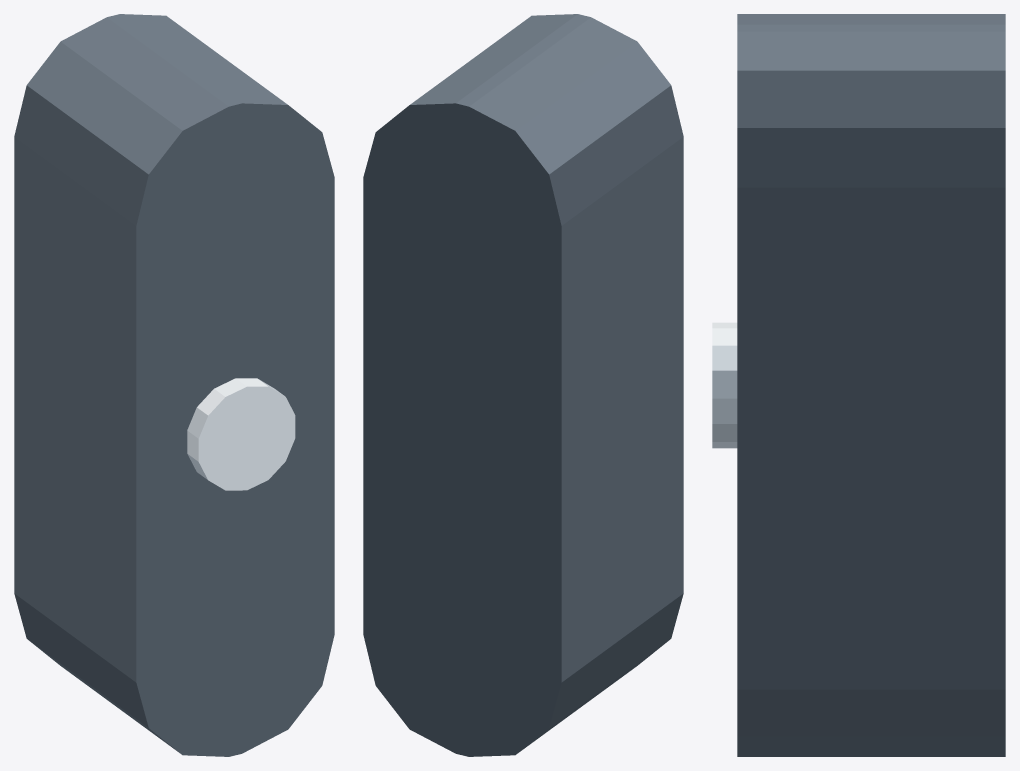
Rendered from Edge_Shutter.gltf.
3 renders of one model, left to right at view 1: azimuth 30°, elevation 25°; view 2: azimuth 150°, elevation 25°; view 3: azimuth 270°, elevation 25°, orthographic. The views are drawn at different scales.
Parts seen in each view (by area): view 1: Edge_Shutter_baked; view 2: Edge_Shutter_baked; view 3: Edge_Shutter_baked.
Part boxes in pixels (left/top/right/bottom): Edge_Shutter_baked: left=14, top=14, right=334, bottom=756; Edge_Shutter_baked: left=363, top=14, right=683, bottom=756; Edge_Shutter_baked: left=712, top=14, right=1005, bottom=756.
Bounding box in the file's own units: 0.3 × 0.94 × 0.35.
